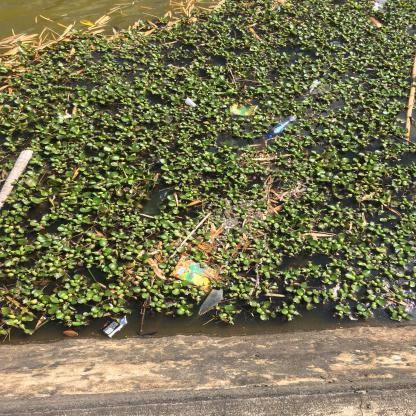plastik: (170, 257, 220, 294), (267, 117, 297, 141)
